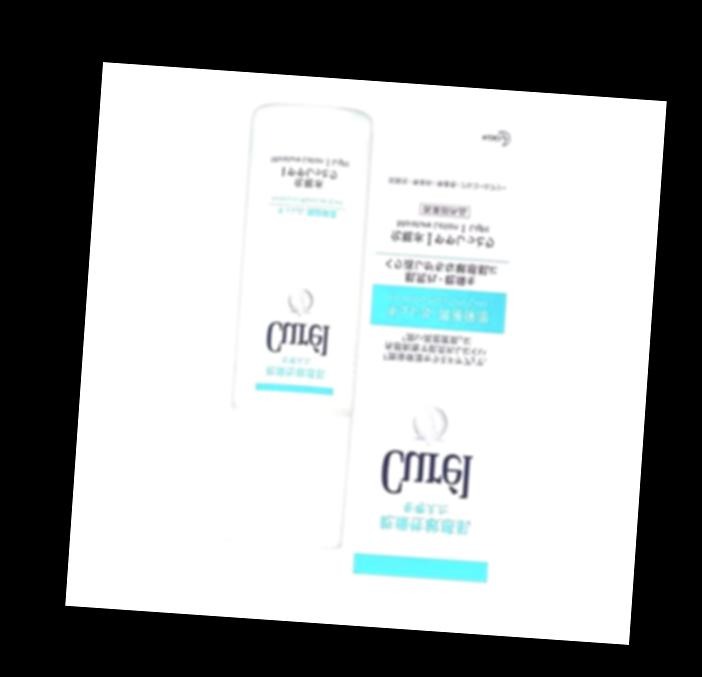cosmetic: (222, 112, 376, 550)
